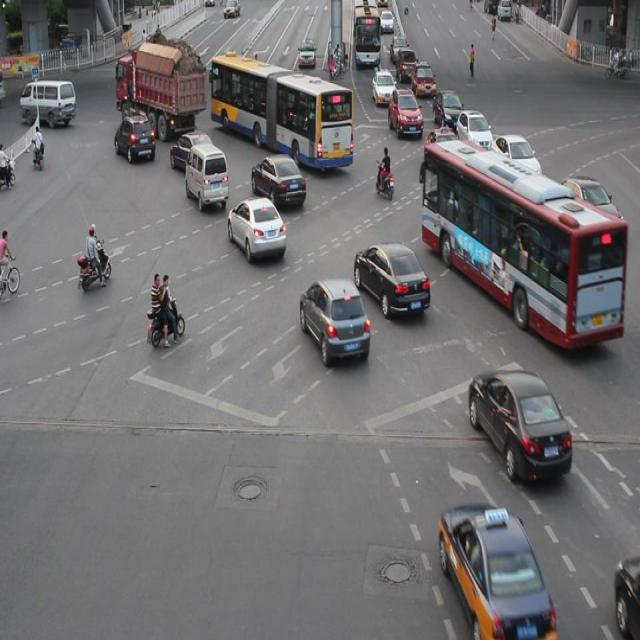bus: (115, 51, 206, 135)
car: (438, 501, 554, 640), (467, 369, 572, 482), (300, 277, 370, 364), (353, 241, 430, 316), (555, 174, 621, 237), (226, 194, 286, 261), (523, 196, 578, 253), (250, 153, 306, 208), (489, 132, 540, 186), (169, 130, 215, 176), (114, 113, 156, 162), (387, 87, 422, 138), (455, 108, 492, 152), (424, 125, 460, 169), (431, 87, 462, 130)
truck: (184, 142, 230, 208)
van: (423, 140, 624, 346), (211, 54, 353, 168)
